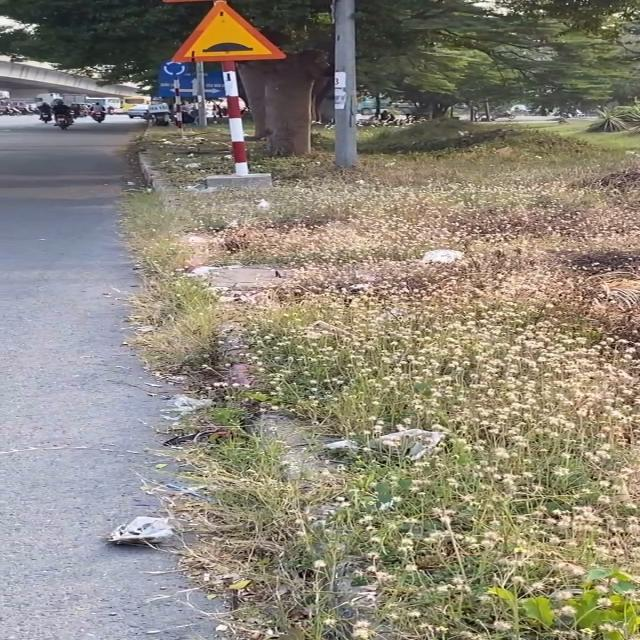221-duong-go-ghe: (166, 0, 286, 61)
303-noi-giao-nhau-chay-theo-vong-xuyen: (160, 59, 188, 77)
